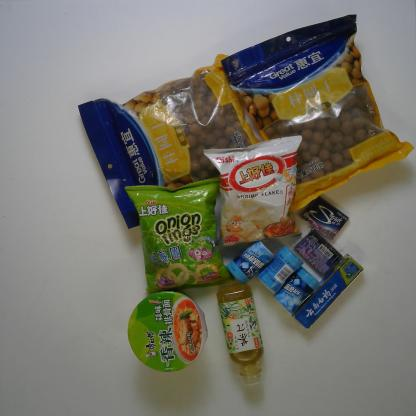Dried Food: (218, 11, 416, 214), (76, 51, 276, 233)
Drink: (214, 280, 272, 390)
Gum: (223, 239, 282, 287), (299, 192, 353, 243), (293, 227, 344, 280), (257, 244, 305, 298), (277, 264, 321, 321)
Instant Noodles: (123, 291, 209, 376)
Personal Hygiene: (294, 251, 367, 335)
Puffed Food: (195, 132, 312, 250), (120, 176, 235, 294)
